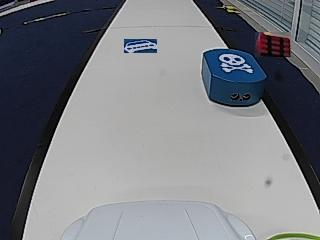danger: (219, 52, 252, 73)
